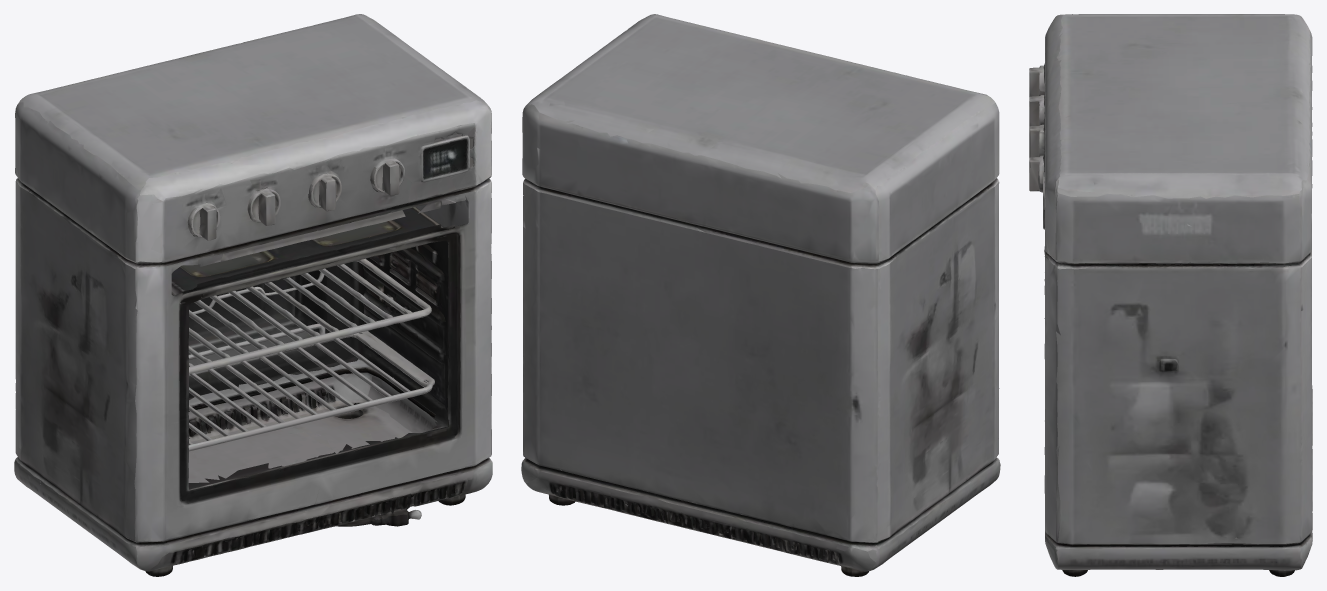
File: body.glb
3 views of the same model, side by side, from view 1: azimuth 30°, elevation 25°; view 2: azimuth 150°, elevation 25°; view 3: azimuth 270°, elevation 25° (orthographic).
Visible parts, largest first — view 1: world; view 2: world; view 3: world.
Boxes of the visible parts, bbox=[...] form: world: bbox=[14, 14, 492, 576]; world: bbox=[521, 14, 1000, 576]; world: bbox=[1029, 14, 1312, 576].
Bounding box in the file's own units: 0.52 × 0.5522 × 0.3495.
1 material, 1 textured.
